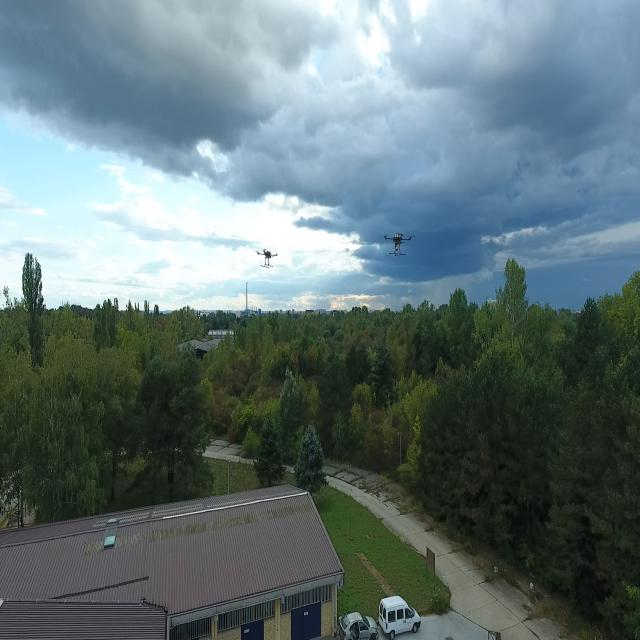UAV: (245, 243, 288, 274), (378, 226, 418, 258)
